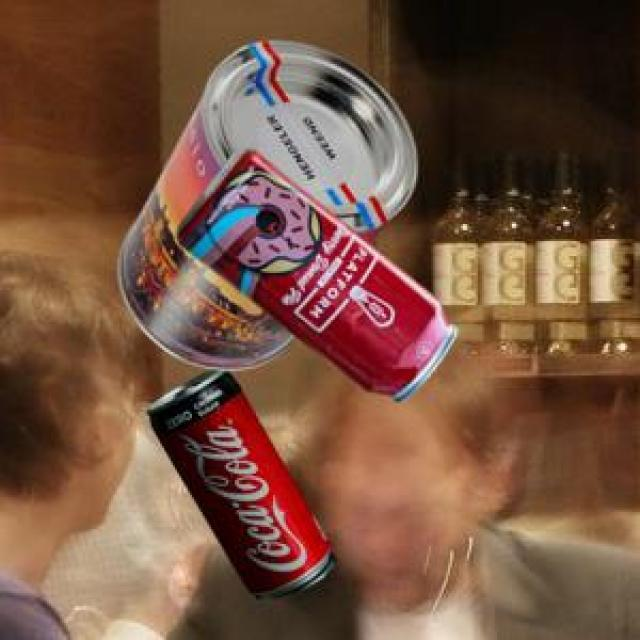Can: (116, 37, 413, 368), (174, 146, 453, 398), (144, 366, 334, 596)
